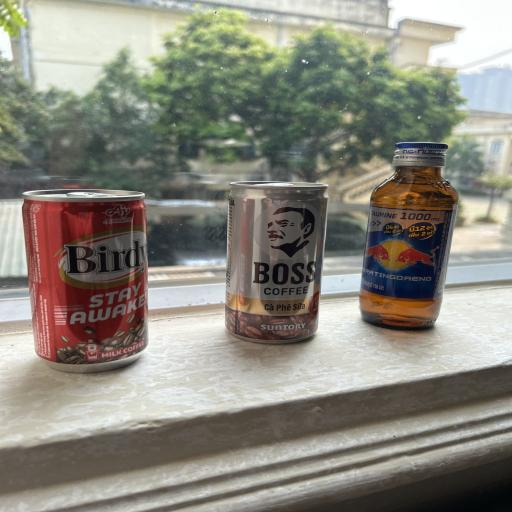birdy: (20, 182, 155, 382)
bo_huc: (364, 143, 457, 334)
boss_coffee: (227, 175, 322, 347)
